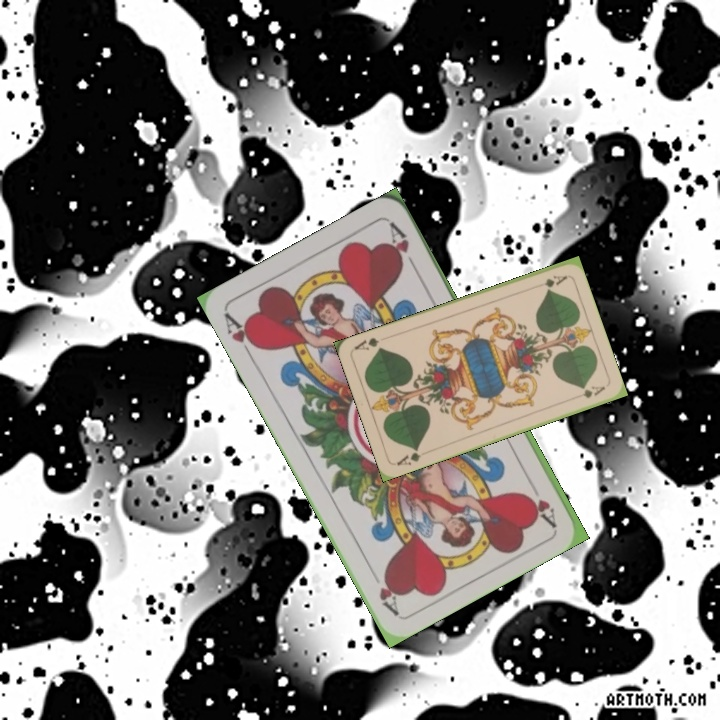GA: (530, 271, 569, 291), (392, 444, 424, 468)
HA: (220, 308, 264, 363), (523, 474, 559, 529)
